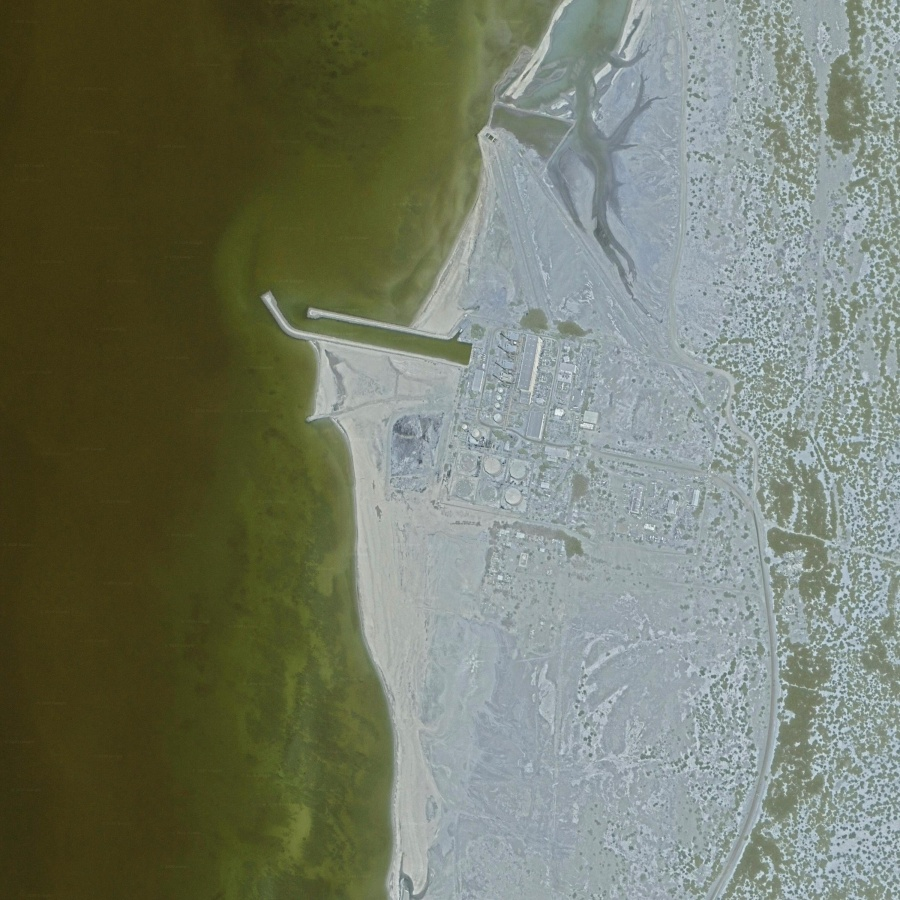PowerPlant: (379, 320, 607, 523)
